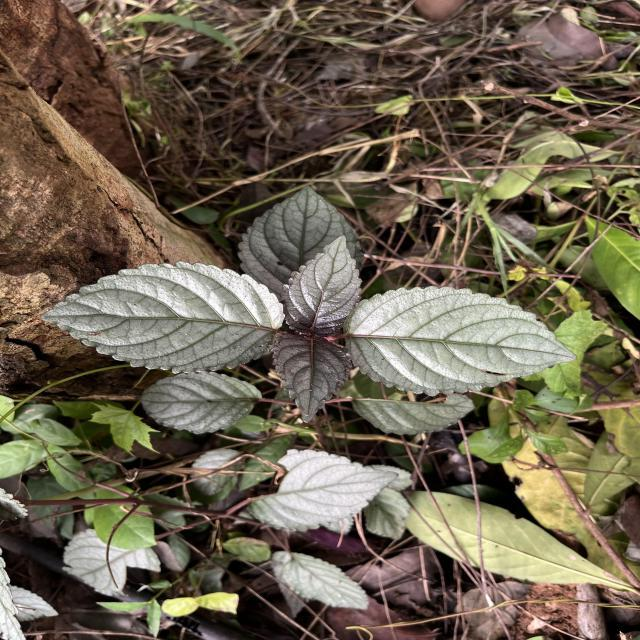Hemigraphis colorata: (36, 256, 288, 376), (344, 282, 582, 398), (278, 230, 366, 340), (138, 369, 266, 437), (267, 332, 356, 427)
